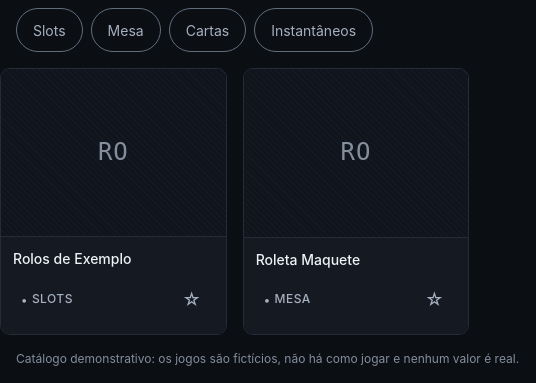
Test: CatalogoJogos › filtra por categoria e marca o filtro ativo
Click the button "Mesa".
click(126, 30)  # box [91,8,161,52]
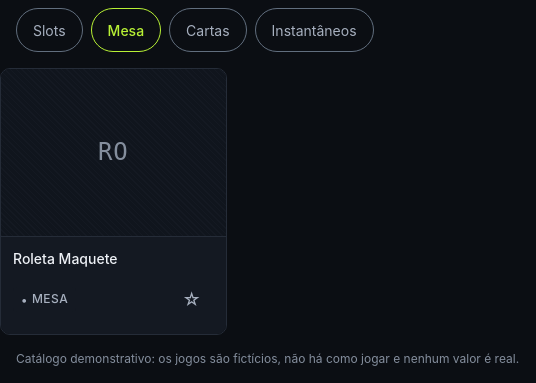
Expected: the heading "Roleta Maquete" is shown, [13,250,118,270]
Now the link "Rolos de Exemplo" is gone
